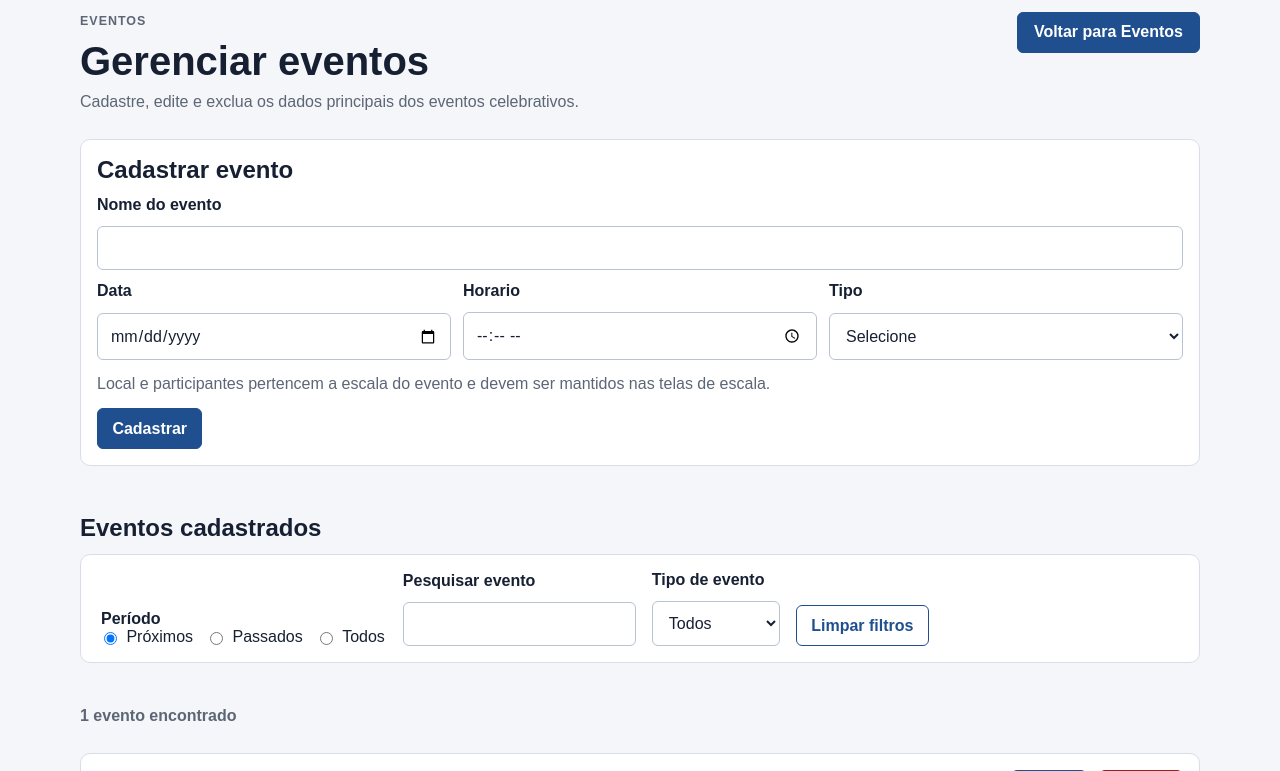
Test: EventManagementComponent › should show the message for no past events
Click the radio button labelled "Passados" at [217, 639], box [210,632,223,645]
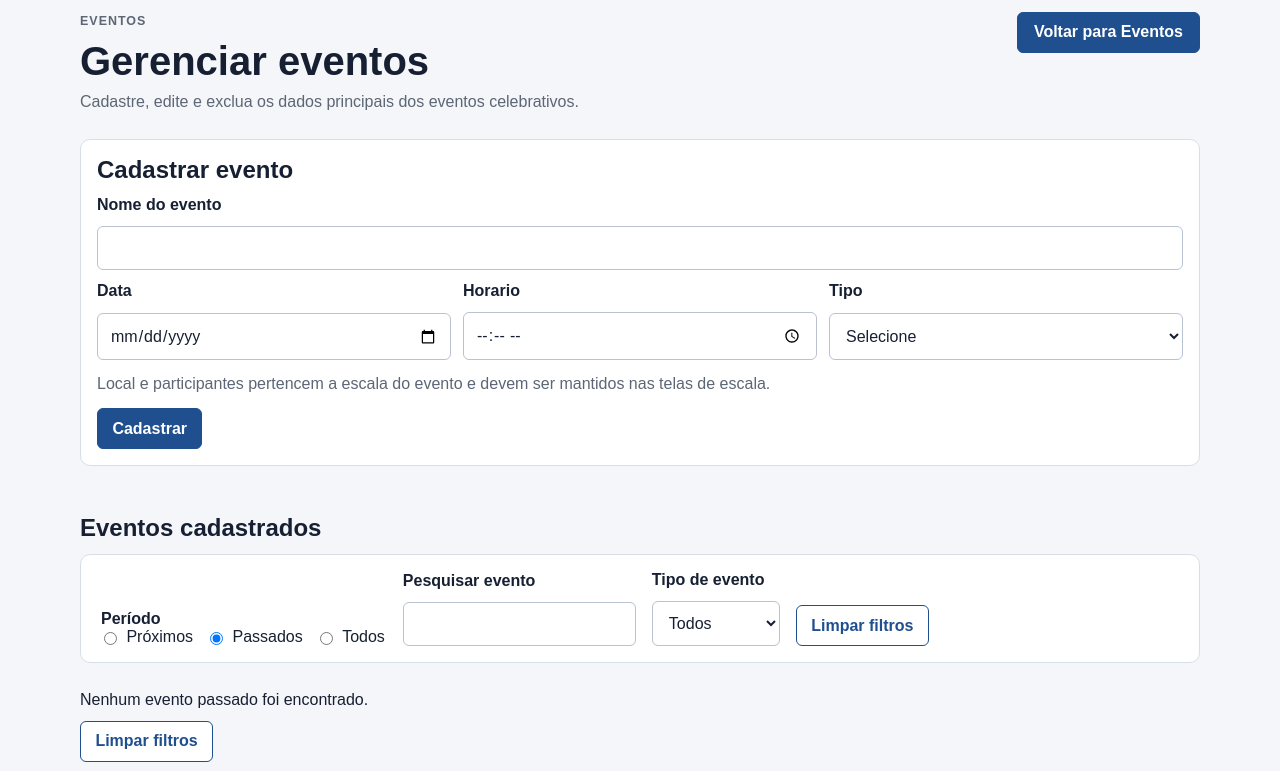
Expected: the text "Nenhum evento passado foi encontrado." is shown, [80,691,368,709]
Expected: the button with class "event-management__button--secondary" below "Nenhum evento passado foi encontrado." is shown, [80,721,213,762]
